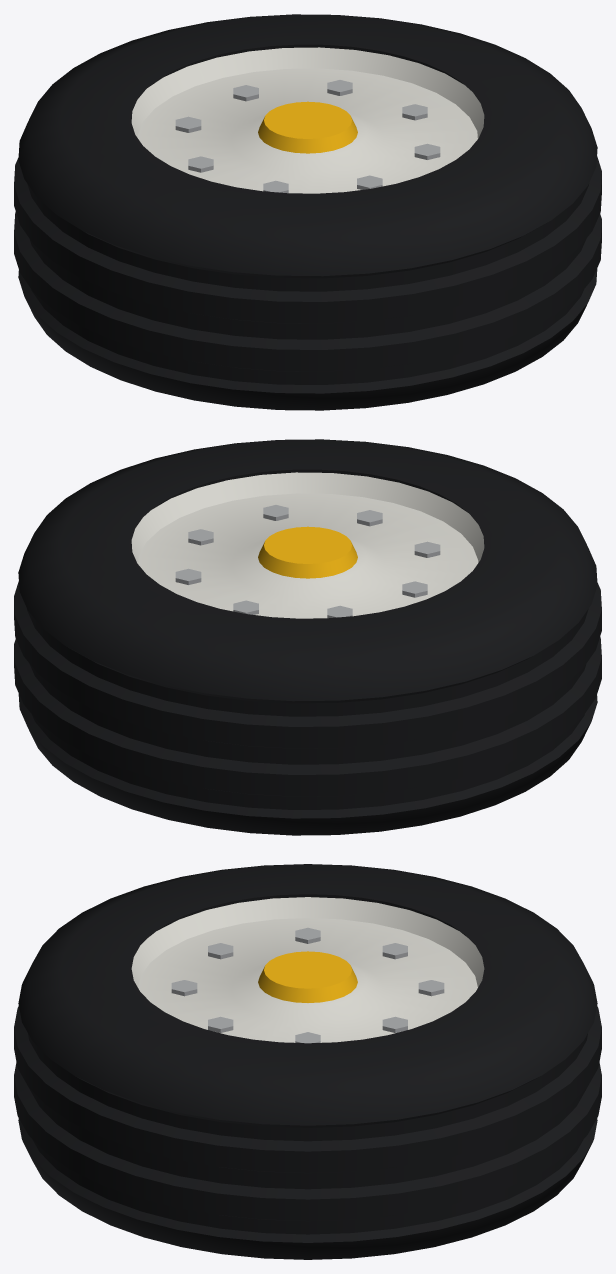
Rendered from wheel.glb.
The picture shows the model from 3 angles, top to bottom: view 1: azimuth 30°, elevation 25°; view 2: azimuth 150°, elevation 25°; view 3: azimuth 270°, elevation 25°; orthographic projection.
Parts seen in each view (by area): view 1: Tyre, Hub.001, Caps, Bolts.002; view 2: Tyre, Hub.001, Caps, Bolts.002; view 3: Tyre, Hub.001, Caps, Bolts.002.
Boxes of the visible parts, x1,y1,x2,y2 form: Tyre: [14, 14, 601, 410]; Hub.001: [131, 47, 484, 193]; Caps: [258, 101, 357, 153]; Bolts.002: [175, 80, 440, 193]; Tyre: [14, 439, 601, 835]; Hub.001: [131, 472, 484, 618]; Caps: [258, 526, 357, 578]; Bolts.002: [175, 505, 440, 618]; Tyre: [14, 864, 601, 1259]; Hub.001: [131, 897, 484, 1042]; Caps: [258, 951, 357, 1002]; Bolts.002: [171, 927, 444, 1043].
Bounding box in the file's own units: 2 × 0.7 × 2.
